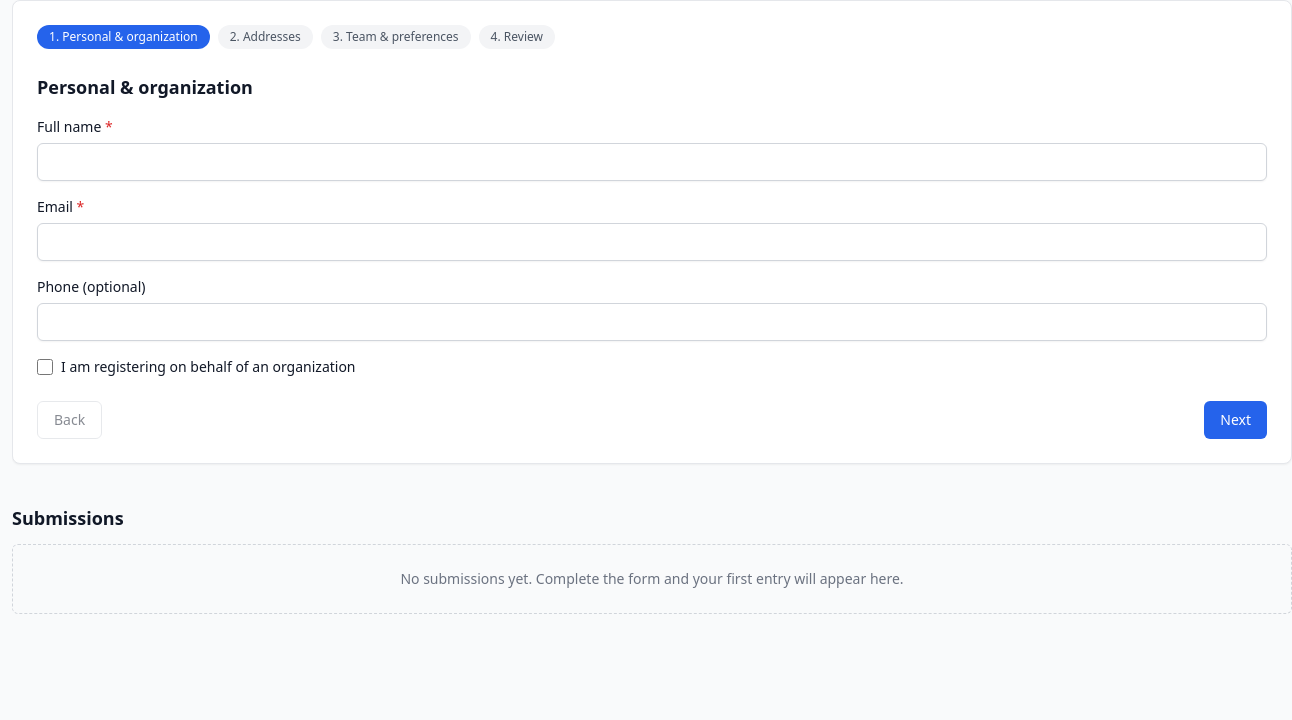
OnboardingForm › blocks step navigation on invalid input and shows inline errors
Type "Mehdi Rezaii" into the field labelled "Full name *" at point(652, 162), box x1=37 y1=143 x2=1267 y2=181
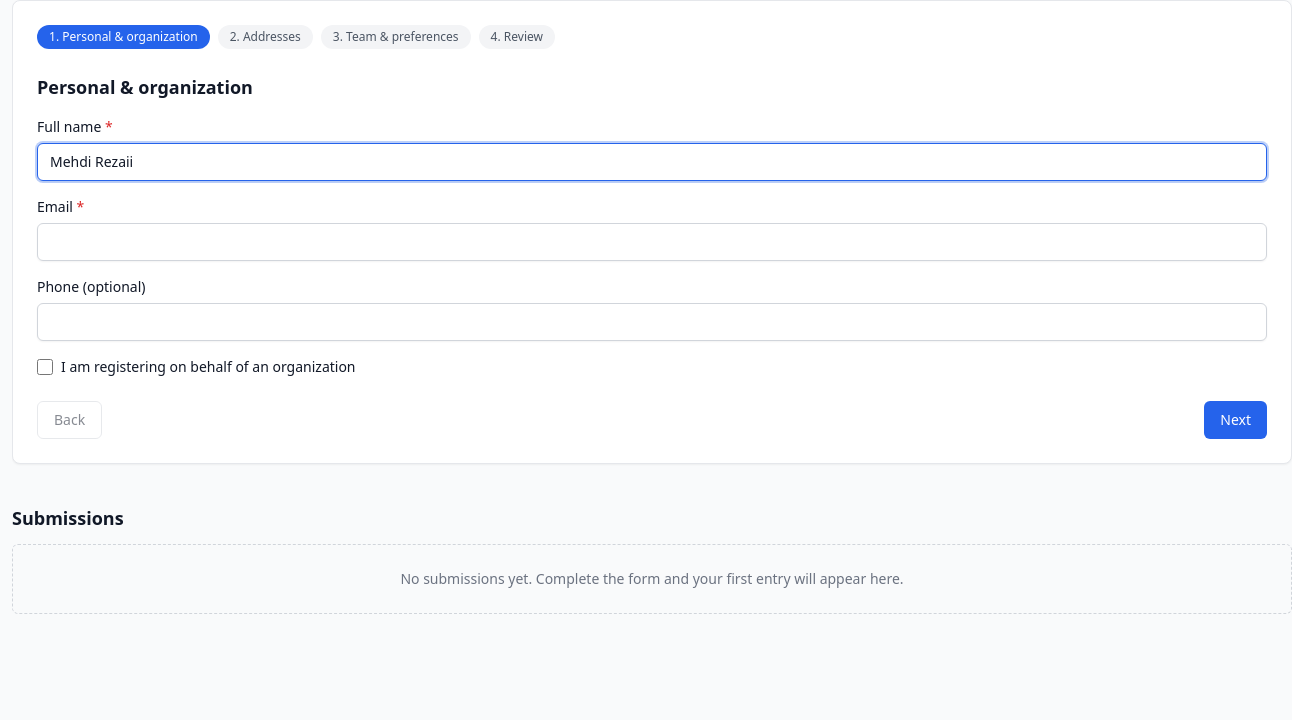
Type "not-an-email" into the field labelled "Email *" at point(652, 242), box x1=37 y1=223 x2=1267 y2=261
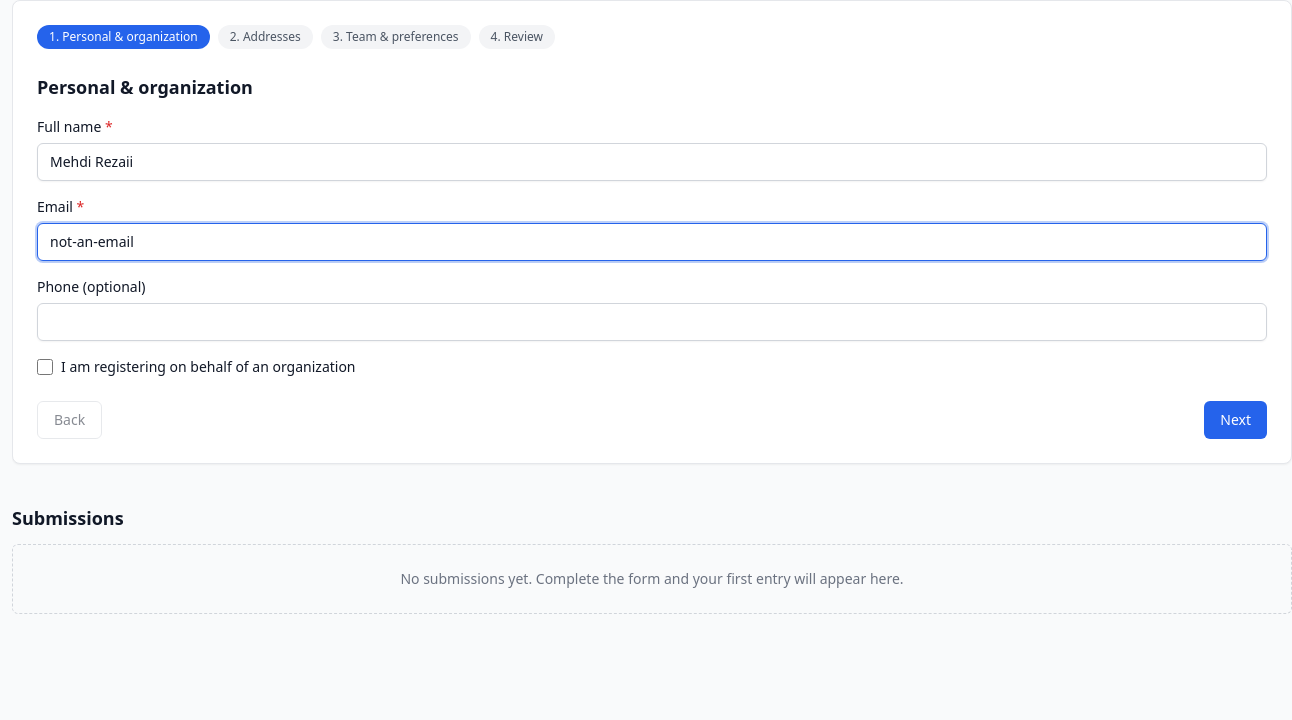
Click the button "Next" at point(1236, 420), box x1=1204 y1=401 x2=1267 y2=439
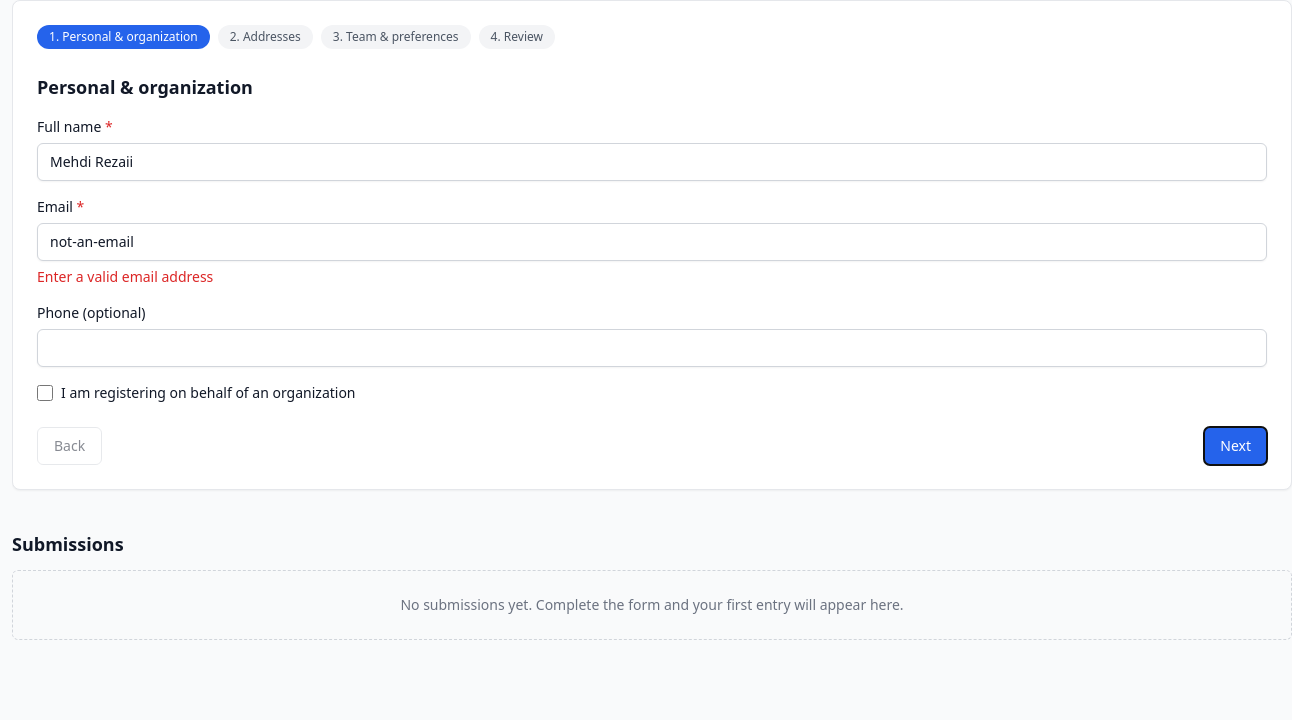
Check: the heading "Personal & organization" is shown, box x1=37 y1=75 x2=253 y2=99
Check: the text "Enter a valid email address" is shown, box x1=37 y1=267 x2=213 y2=286
